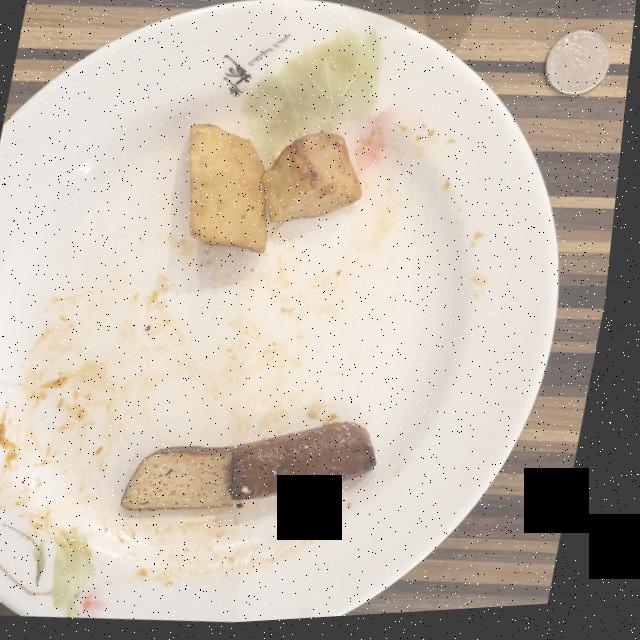coin: (547, 38, 612, 102)
firm tofu: (132, 426, 387, 513)
fried potato: (192, 126, 367, 256)
